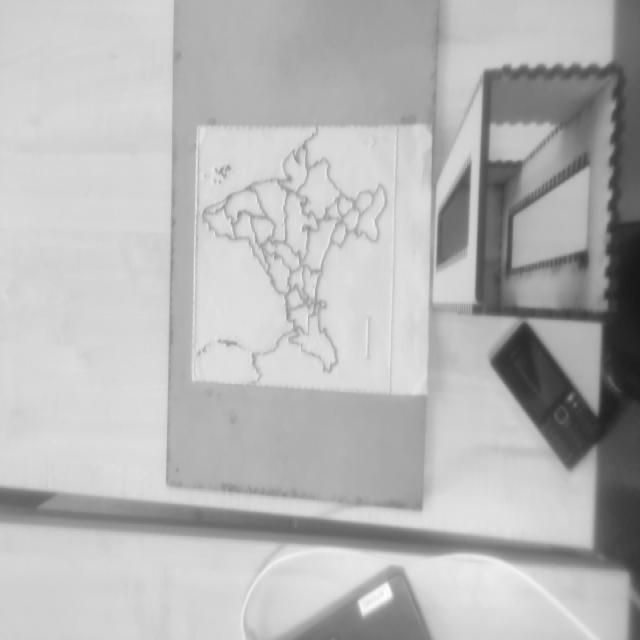map: (191, 120, 397, 394)
